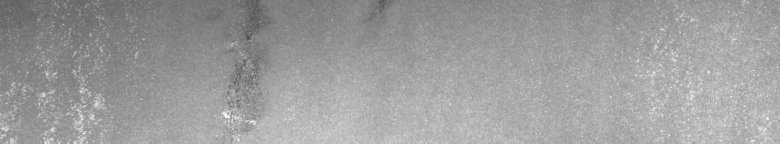hc: (222, 32, 264, 125)
